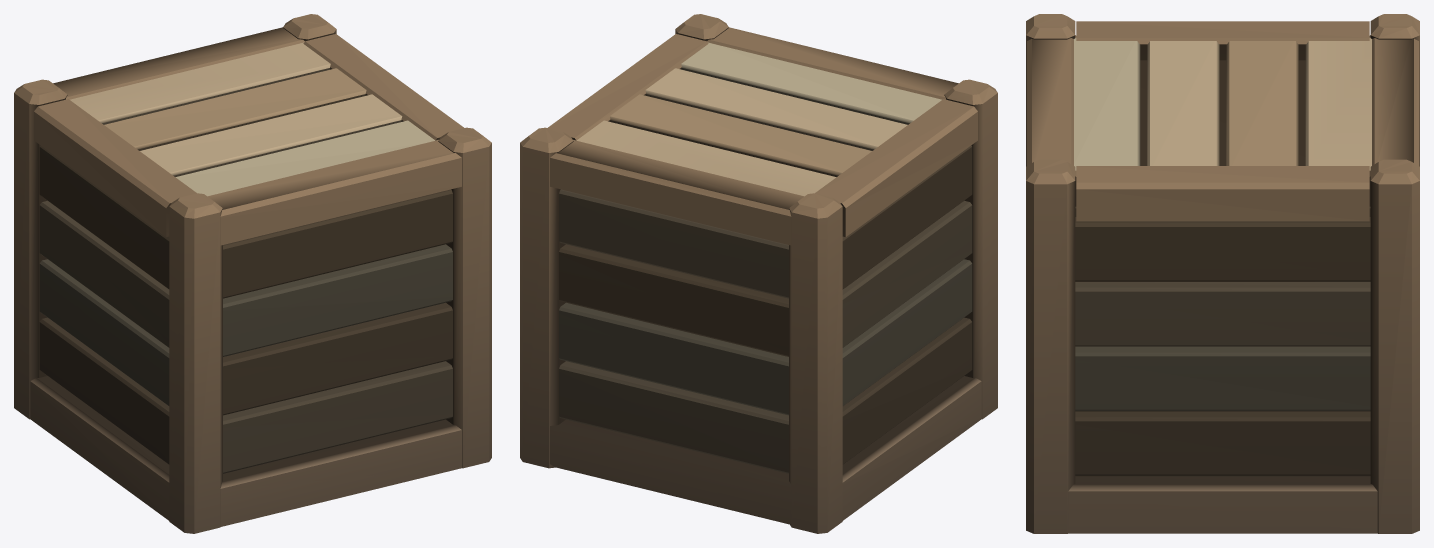
Rendered from crate.glb.
3 views of the same model, side by side, from view 1: azimuth 30°, elevation 25°; view 2: azimuth 150°, elevation 25°; view 3: azimuth 270°, elevation 25° (orthographic). The views are drawn at different scales.
Visible parts, largest first — view 1: crate; view 2: crate; view 3: crate.
Boxes of the visible parts, x1,y1,x2,y2 form: crate: (14,14,491,533); crate: (520,14,997,533); crate: (1026,14,1419,533).
Bounding box in the file's own units: 1.12 × 1.12 × 1.12.
